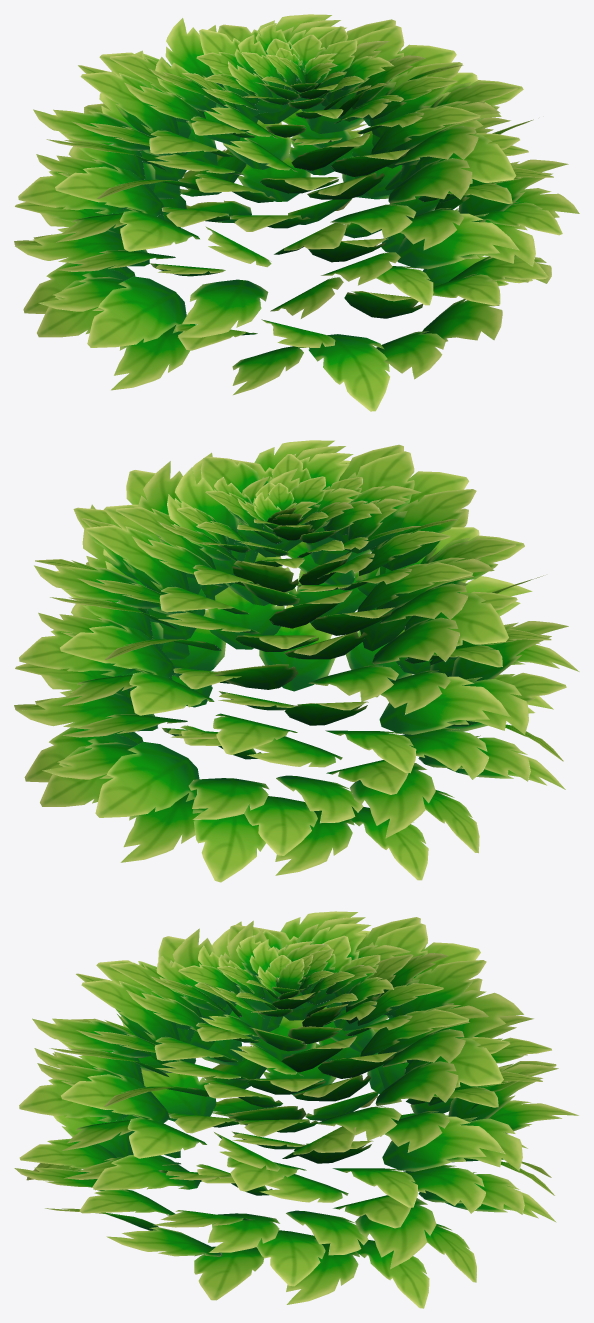
File: Bush.fbx
The picture shows the model from 3 angles, top to bottom: view 1: azimuth 30°, elevation 25°; view 2: azimuth 150°, elevation 25°; view 3: azimuth 270°, elevation 25°; orthographic projection. The views are drawn at different scales.
Parts seen in each view (by area): view 1: hojas.001; view 2: hojas.001; view 3: hojas.001.
Part boxes in pixels (box(x1,y1,x2,y2)): hojas.001: box(14, 14, 579, 411); hojas.001: box(14, 440, 579, 882); hojas.001: box(14, 911, 578, 1308).
Size of the model in its own units: 136 by 72.41 by 144.
